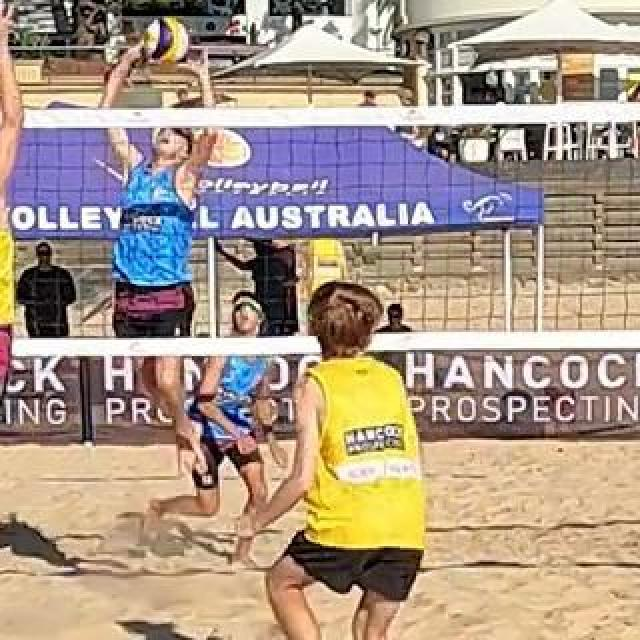volleyball: (142, 17, 190, 63)
